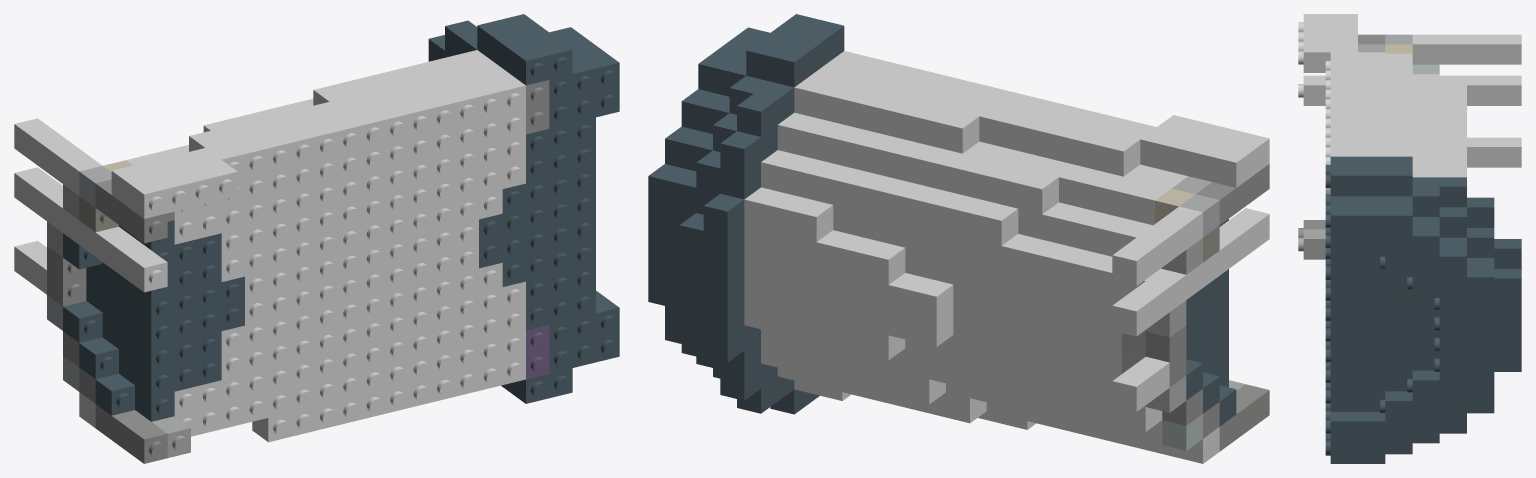
File: full.glb
The picture shows the model from 3 angles, left to right: view 1: azimuth 30°, elevation 25°; view 2: azimuth 150°, elevation 25°; view 3: azimuth 270°, elevation 25°; orthographic projection. The views are drawn at different scales.
Parts seen in each view (by area): view 1: world; view 2: world; view 3: world.
Boxes of the visible parts, x1,y1,x2,y2 form: world: (14, 14, 619, 463); world: (648, 14, 1269, 463); world: (1298, 14, 1521, 463).
Bounding box in the file's own units: 168 × 112 × 78.6.
